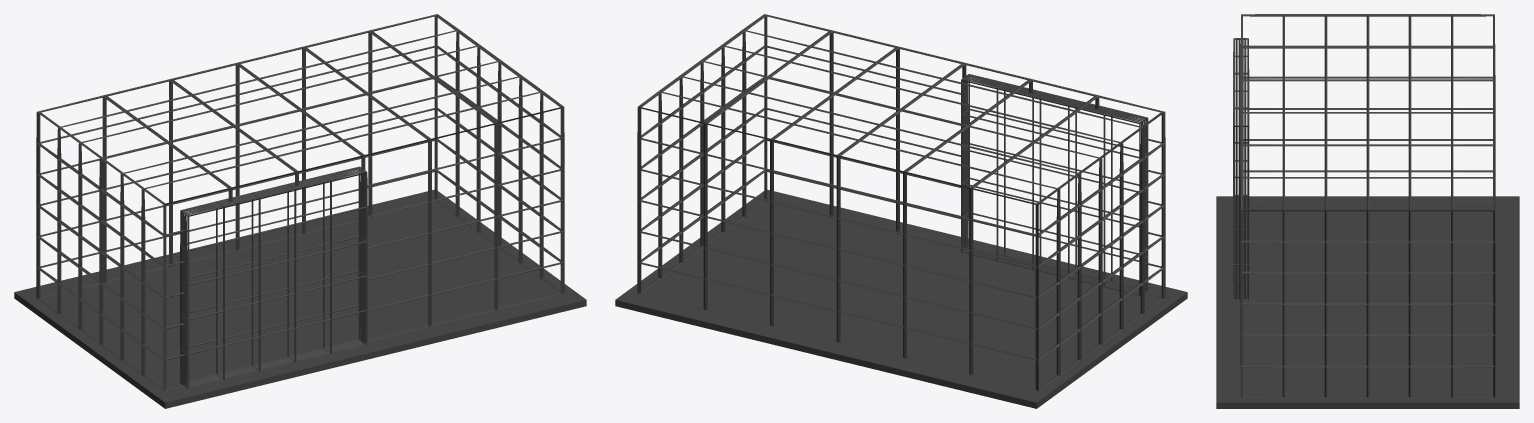
The model's file is DogCageV3.fbx.
3 views of the same model, side by side, from view 1: azimuth 30°, elevation 25°; view 2: azimuth 150°, elevation 25°; view 3: azimuth 270°, elevation 25° (orthographic).
Visible parts, largest first — view 1: Cube; view 2: Cube; view 3: Cube.
Part boxes in pixels (<box>): Cube: <box>14,14,586,408</box>; Cube: <box>615,14,1187,408</box>; Cube: <box>1216,14,1519,408</box>.
Bounding box in the file's own units: 473 × 207 × 294.
